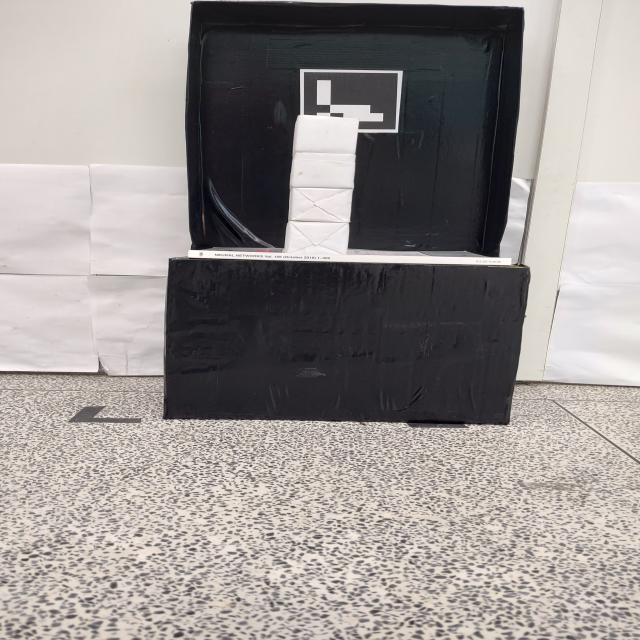bale: (281, 186, 358, 223), (287, 151, 360, 190), (292, 114, 361, 155), (279, 220, 355, 257)
